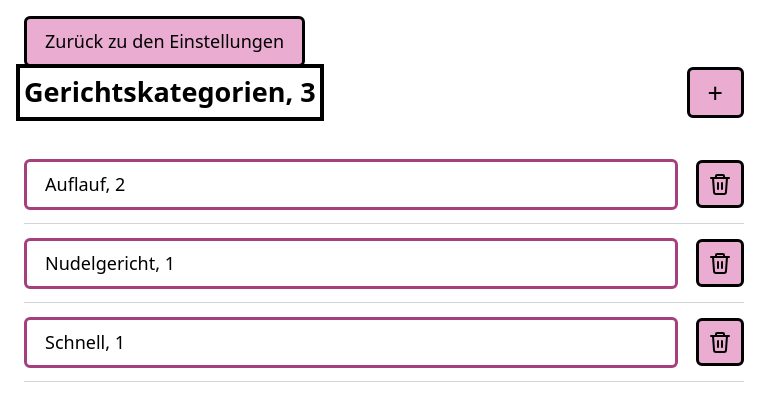
Test: CategoriesArea › asks before deleting a category
The width and height of the screenshot is (769, 399).
Click the button named "Löschen, Auflauf": point(720, 184) [696, 160, 744, 208]
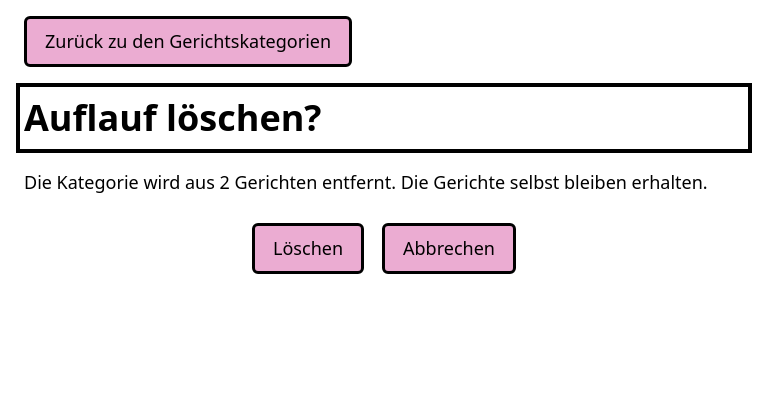
Check: the text "Die Kategorie wird aus 2 Gerichten entfernt. Die Gerichte selbst bleiben erhalten." is shown, box [24, 170, 708, 194]
